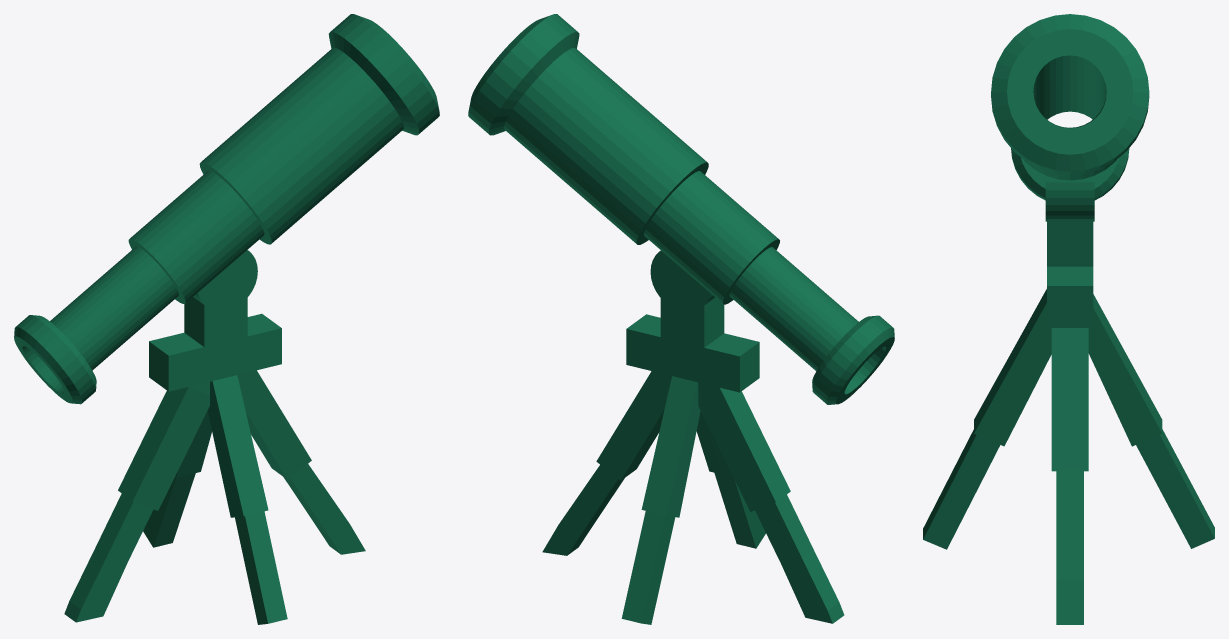
The model's file is Telescope.glb.
3 renders of one model, left to right at view 1: azimuth 30°, elevation 25°; view 2: azimuth 150°, elevation 25°; view 3: azimuth 270°, elevation 25°, orthographic. The views are drawn at different scales.
Parts seen in each view (by area): view 1: unnamed (×3); view 2: unnamed (×3); view 3: unnamed (×4).
Boxes of the visible parts, left/top/right/bottom form: unnamed (×3): left=14, top=14, right=439, bottom=624; unnamed (×3): left=468, top=14, right=894, bottom=624; unnamed (×4): left=923, top=14, right=1214, bottom=624.
Size of the model in its own units: 6.01 by 7.55 by 3.25.
